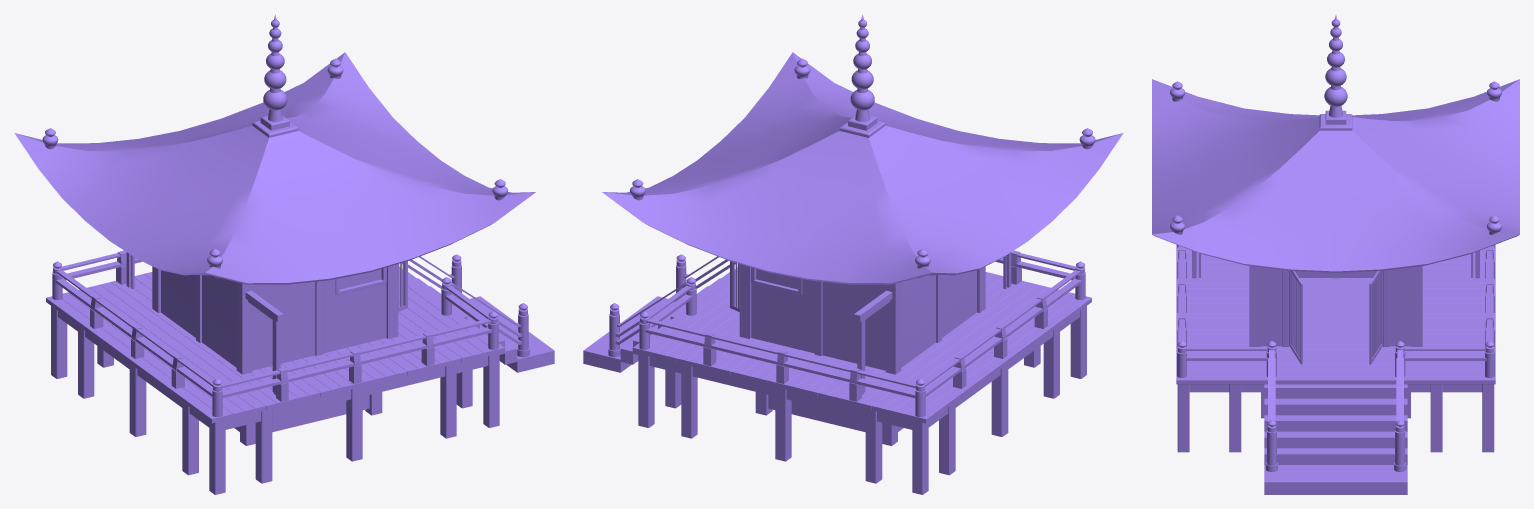
Rendered from TEMPLE LOD0.fbx.
The picture shows the model from 3 angles, left to right: view 1: azimuth 30°, elevation 25°; view 2: azimuth 150°, elevation 25°; view 3: azimuth 270°, elevation 25°; orthographic projection. The views are drawn at different scales.
Visible parts, largest first — view 1: temple_LOD0; view 2: temple_LOD0; view 3: temple_LOD0.
Boxes of the visible parts, bbox=[...] form: temple_LOD0: bbox=[14, 14, 554, 494]; temple_LOD0: bbox=[583, 14, 1123, 494]; temple_LOD0: bbox=[1152, 15, 1519, 494].
Size of the model in its own units: 1082 by 981 by 878.
